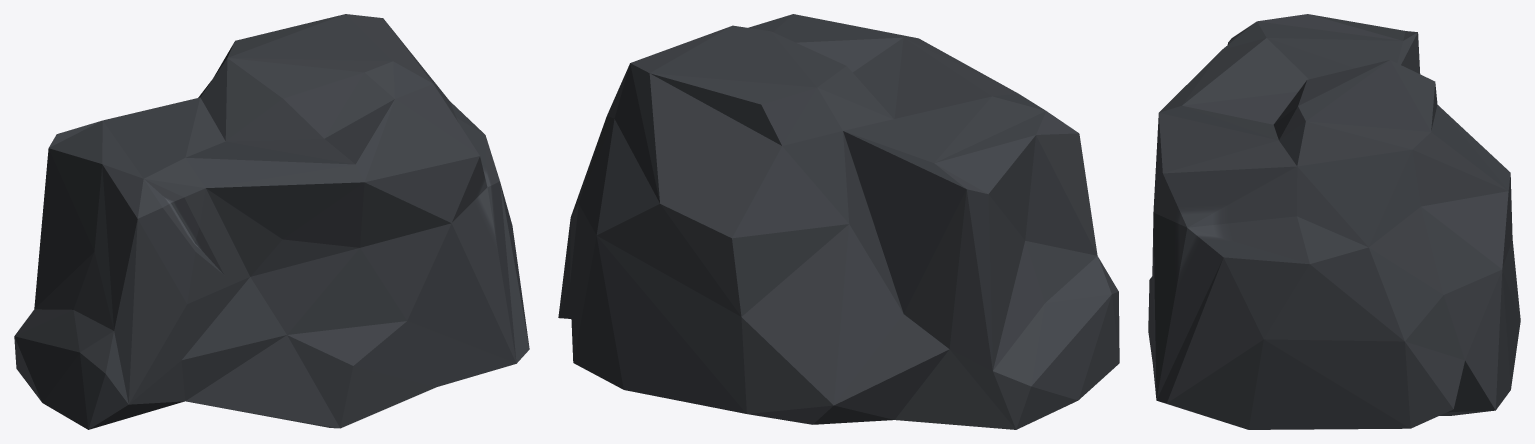
File: crypt_rock_b.gltf
3 renders of one model, left to right at view 1: azimuth 30°, elevation 25°; view 2: azimuth 150°, elevation 25°; view 3: azimuth 270°, elevation 25°, orthographic. The views are drawn at different scales.
Visible parts, largest first — view 1: crypt_rock_b; view 2: crypt_rock_b; view 3: crypt_rock_b.
Boxes of the visible parts, bbox=[...] form: crypt_rock_b: bbox=[14, 14, 529, 429]; crypt_rock_b: bbox=[558, 14, 1119, 429]; crypt_rock_b: bbox=[1148, 14, 1520, 429].
Bounding box in the file's own units: 1.89 × 1.15 × 1.38.
Materials: 1 (1 with a texture image).
